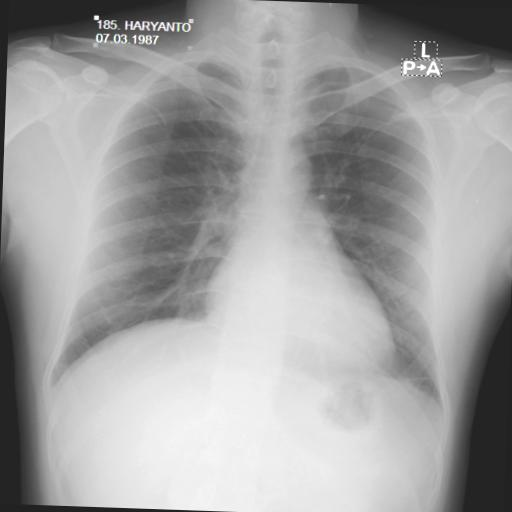kardiomegali: (38, 25, 468, 430)
